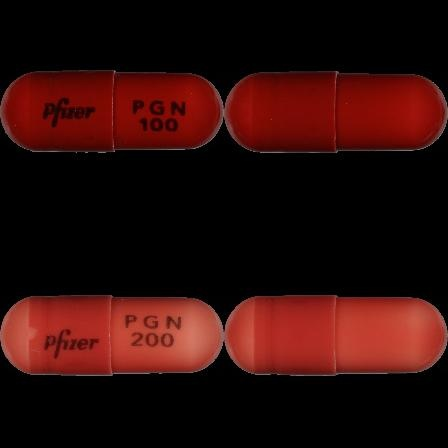49999-905: (0, 0, 224, 224)
